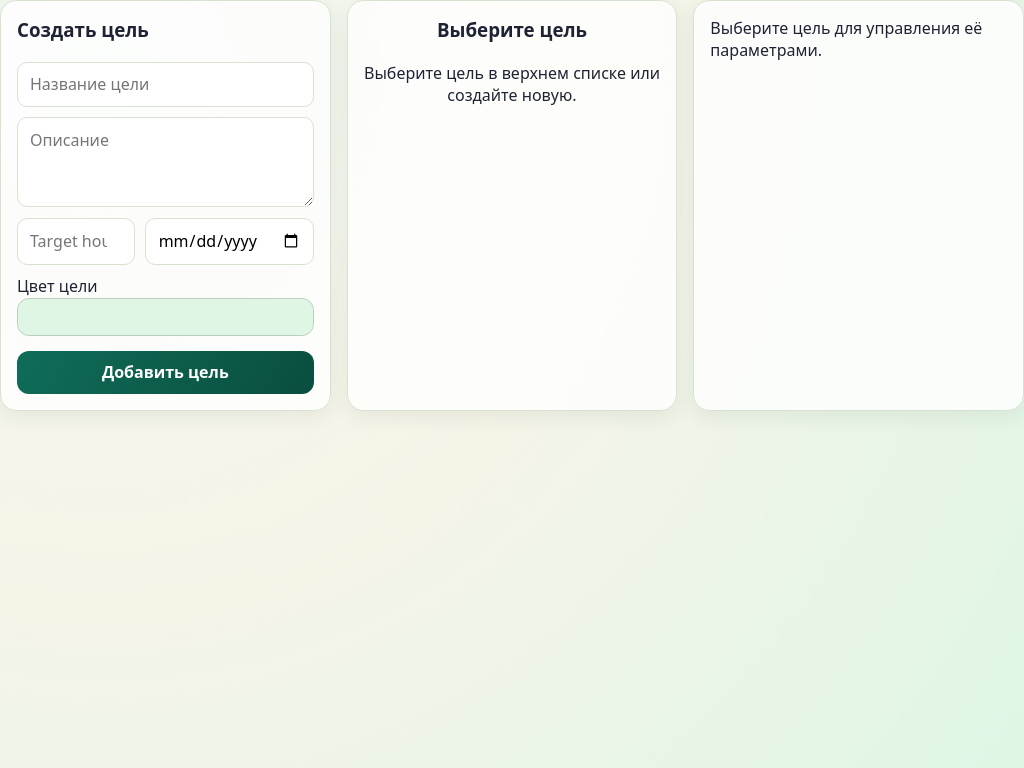
Scenario: ControlPage › shows duplicate goal error from backend
Type "Начать изучать английский язык" into the field with placeholder "Название цели" at [165, 84], box [17, 62, 314, 107]
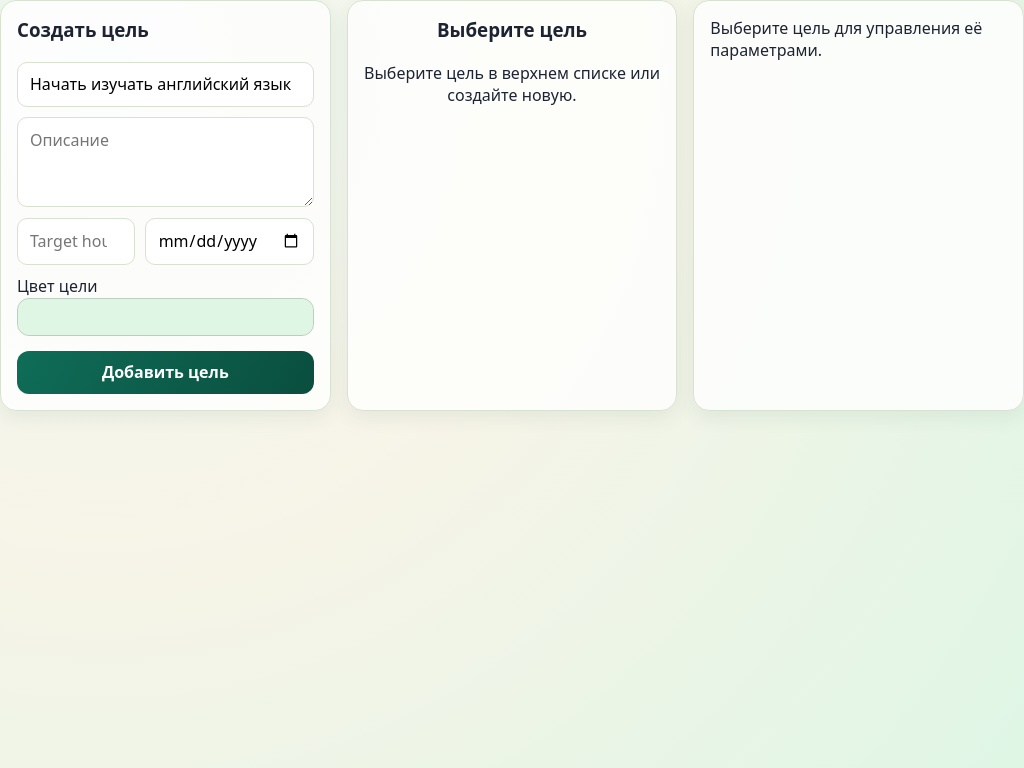
Submit the form "Добавить цель", box [17, 62, 314, 394]
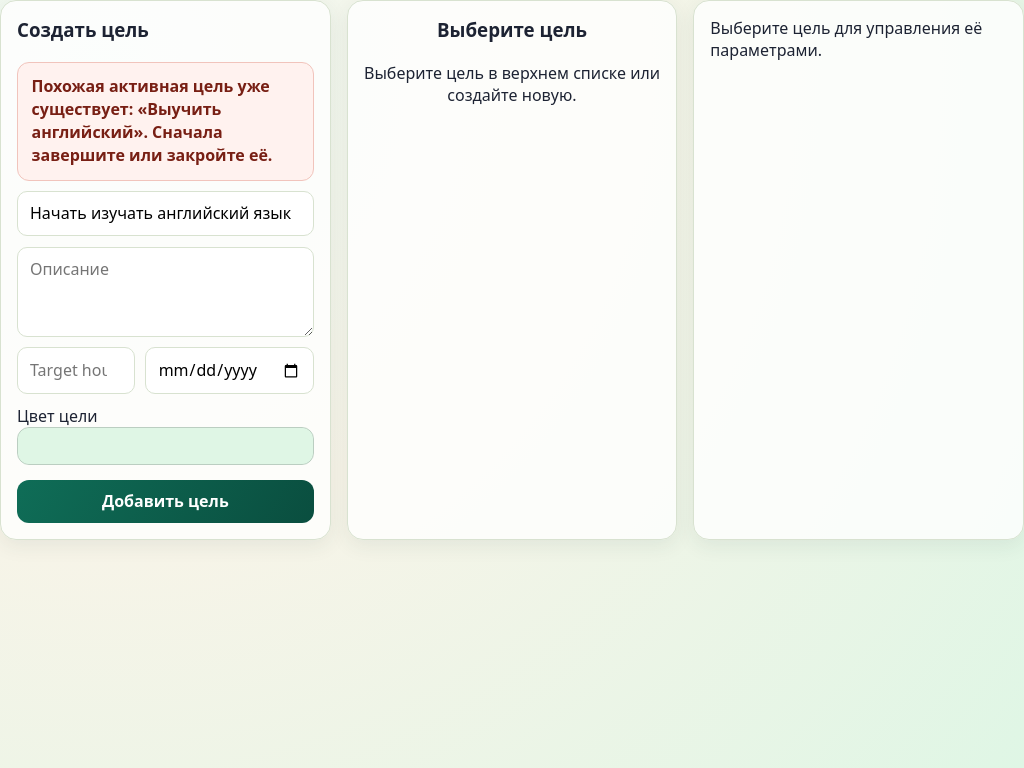
Check: the text "Похожая активная цель уже существует: «Выучить английский». Сначала завершите или закройте её." is shown, box [32, 75, 272, 166]
